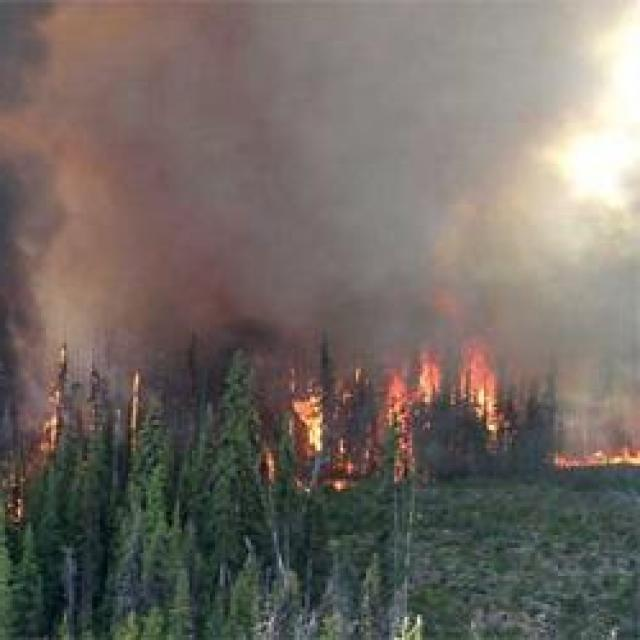fire: (299, 392, 322, 450)
smoke: (0, 2, 167, 164), (484, 216, 630, 356), (0, 179, 77, 373), (133, 0, 267, 104), (226, 301, 278, 349)
